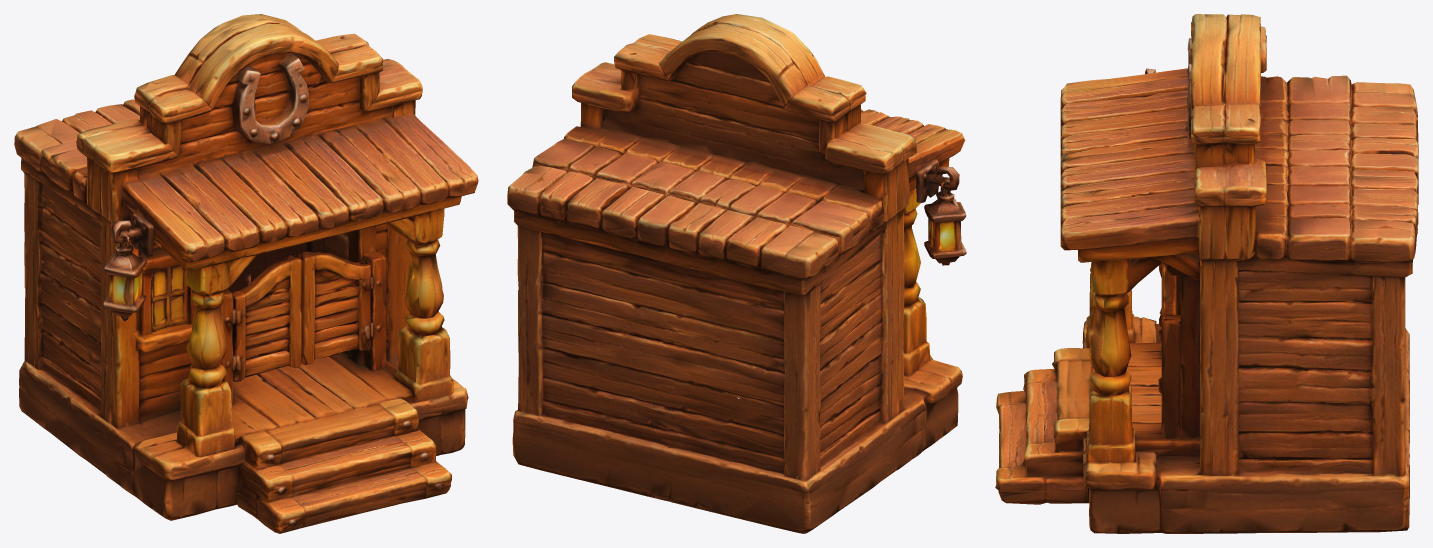
The model's file is saloon.glb.
3 views of the same model, side by side, from view 1: azimuth 30°, elevation 25°; view 2: azimuth 150°, elevation 25°; view 3: azimuth 270°, elevation 25° (orthographic). The views are drawn at different scales.
Visible parts, largest first — view 1: tripo_node_dc710e3a-e802-41cf-8715-62c42236cddf; view 2: tripo_node_dc710e3a-e802-41cf-8715-62c42236cddf; view 3: tripo_node_dc710e3a-e802-41cf-8715-62c42236cddf.
Part boxes in pixels (x1=…): tripo_node_dc710e3a-e802-41cf-8715-62c42236cddf: x1=14, y1=14, x2=478, y2=533; tripo_node_dc710e3a-e802-41cf-8715-62c42236cddf: x1=507, y1=14, x2=966, y2=533; tripo_node_dc710e3a-e802-41cf-8715-62c42236cddf: x1=995, y1=14, x2=1418, y2=533.
Size of the model in its own units: 0.8481 by 0.9791 by 0.8583.
1 material, 1 textured.
